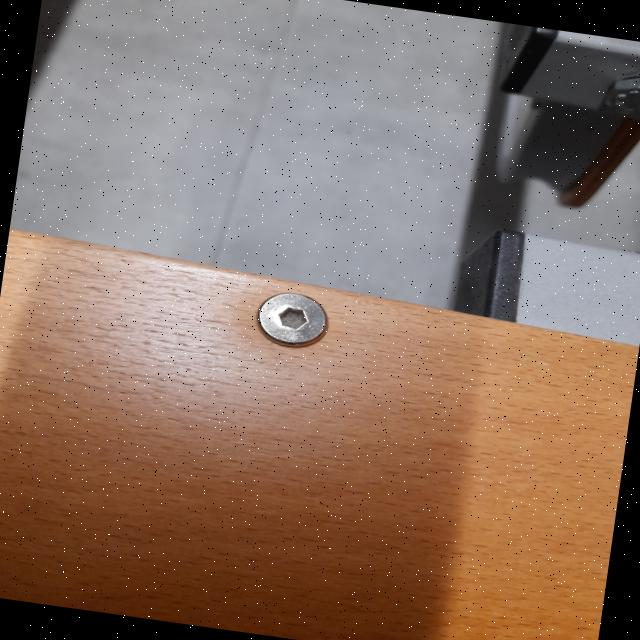Hex Socket Allen: (253, 286, 333, 353)
